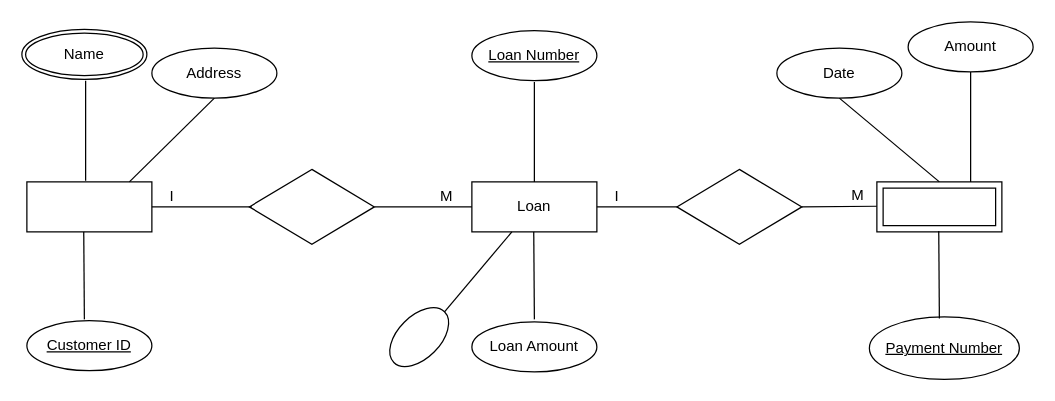
This 1055x401 diagram has some shape labels left out. Each missing label, with the centre of its shape:
"Borrower" belongs at point 311,206.
"Customer" belongs at point 89,206.
"Loan Payment" belongs at point 739,206.
"Payment" belongs at point 939,206.
"Type" belongs at point 418,336.
